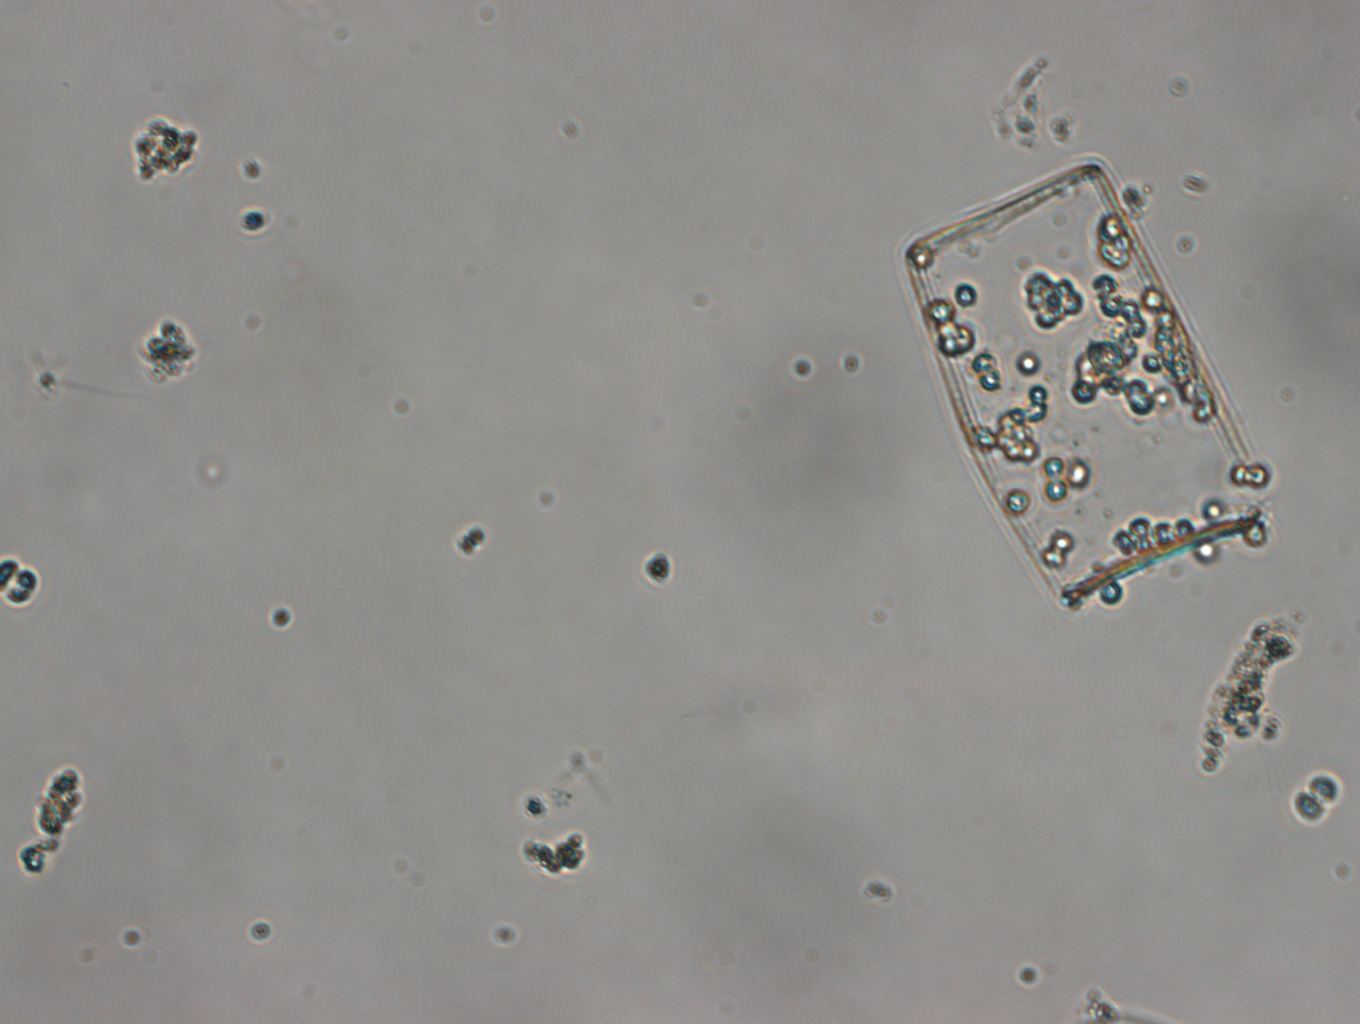guinardia flaccida: (905, 150, 1283, 599)
